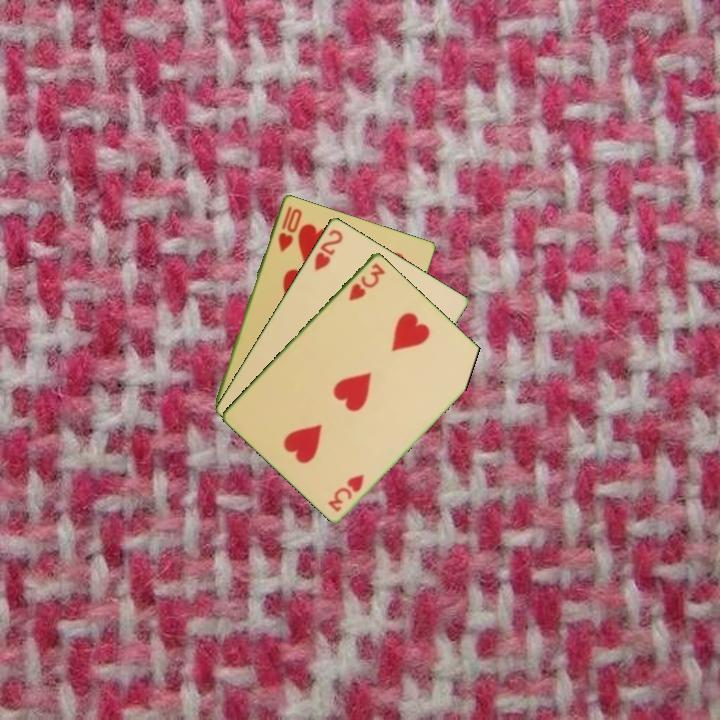10h: (274, 202, 304, 254)
2h: (310, 225, 346, 273)
3h: (345, 259, 388, 303), (324, 470, 367, 514)
